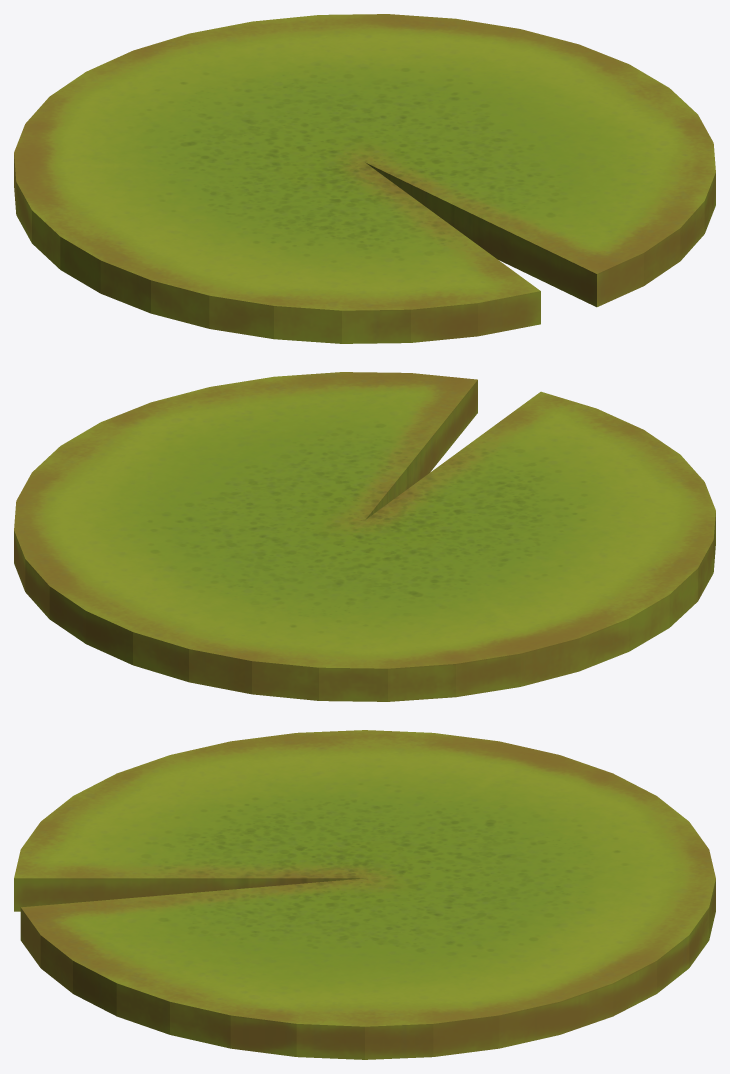
Rendered from NenufarTC.fbx.
The picture shows the model from 3 angles, top to bottom: view 1: azimuth 30°, elevation 25°; view 2: azimuth 150°, elevation 25°; view 3: azimuth 270°, elevation 25°; orthographic projection.
Visible parts, largest first — view 1: Nenufar.001; view 2: Nenufar.001; view 3: Nenufar.001.
Part boxes in pixels (left/top/right/bottom): Nenufar.001: left=14, top=14, right=715, bottom=343; Nenufar.001: left=14, top=372, right=715, bottom=701; Nenufar.001: left=14, top=730, right=715, bottom=1059.
Bounding box in the file's own units: 2 × 0.1044 × 2.
